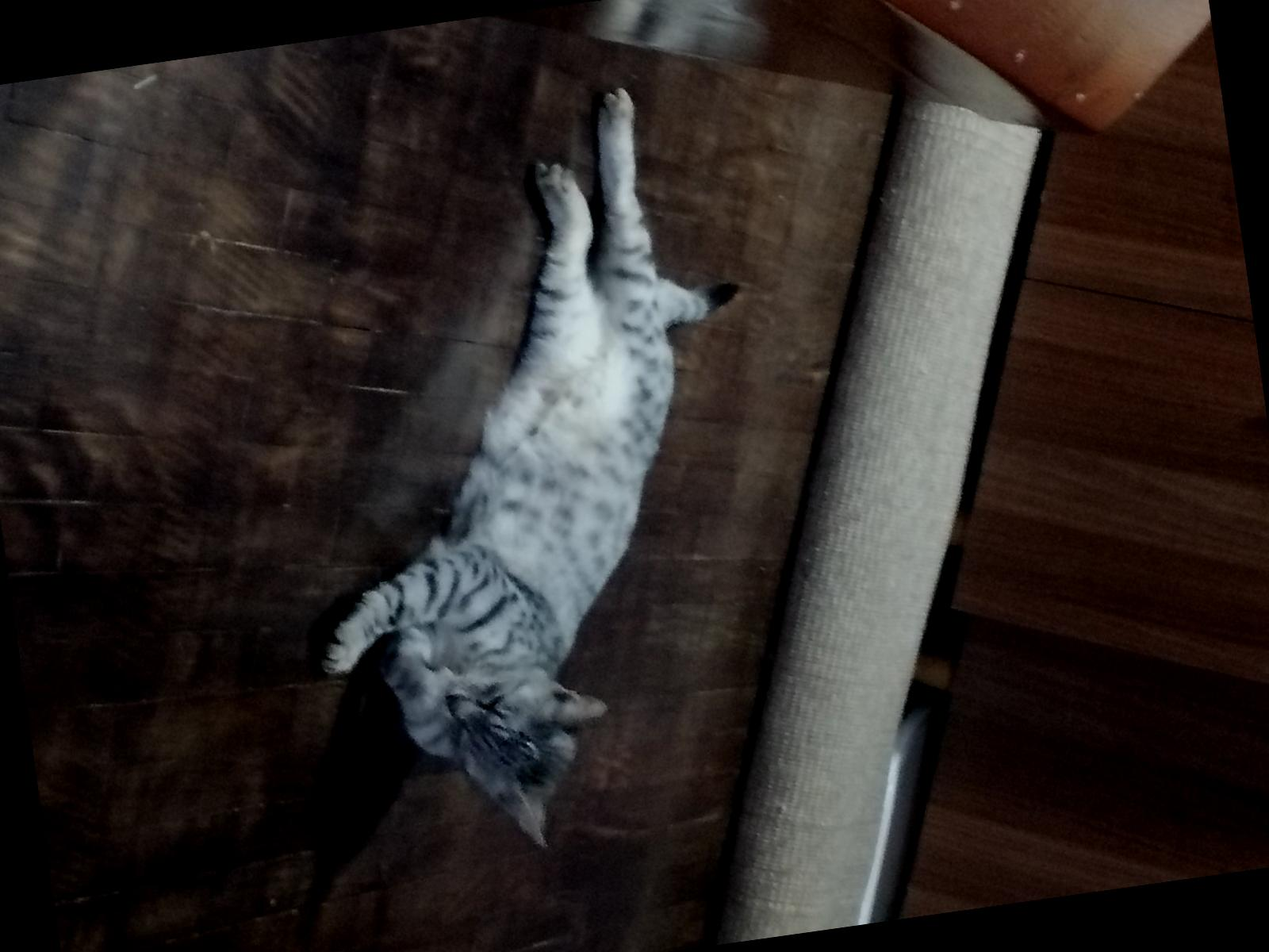macka: (240, 65, 824, 882)
